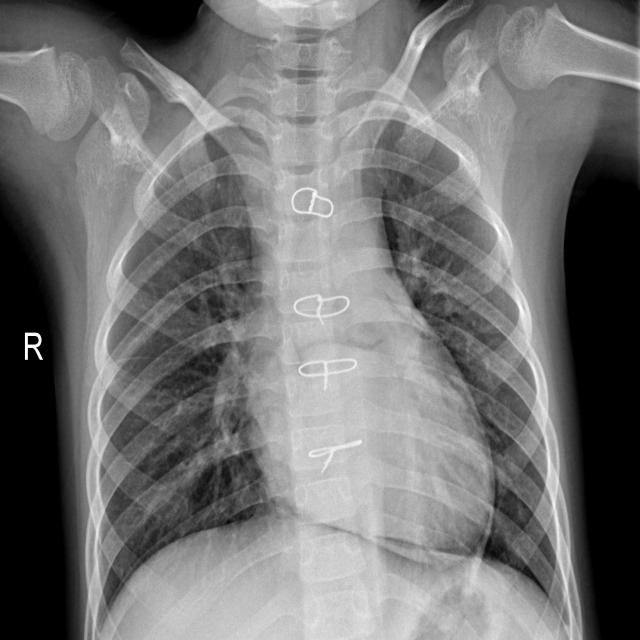low-pneumonia: (198, 286, 258, 465), (392, 194, 459, 302)
